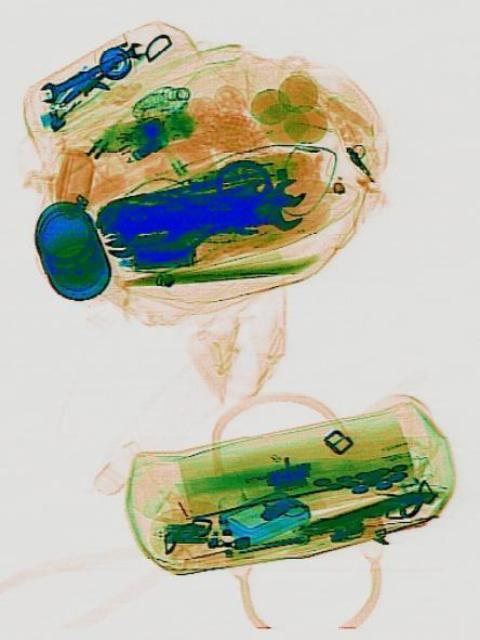Wrench: (35, 34, 146, 106), (209, 190, 299, 238), (230, 170, 306, 220)
